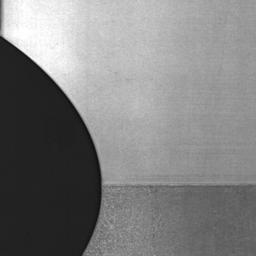Crescent gap: (0, 37, 103, 256)
